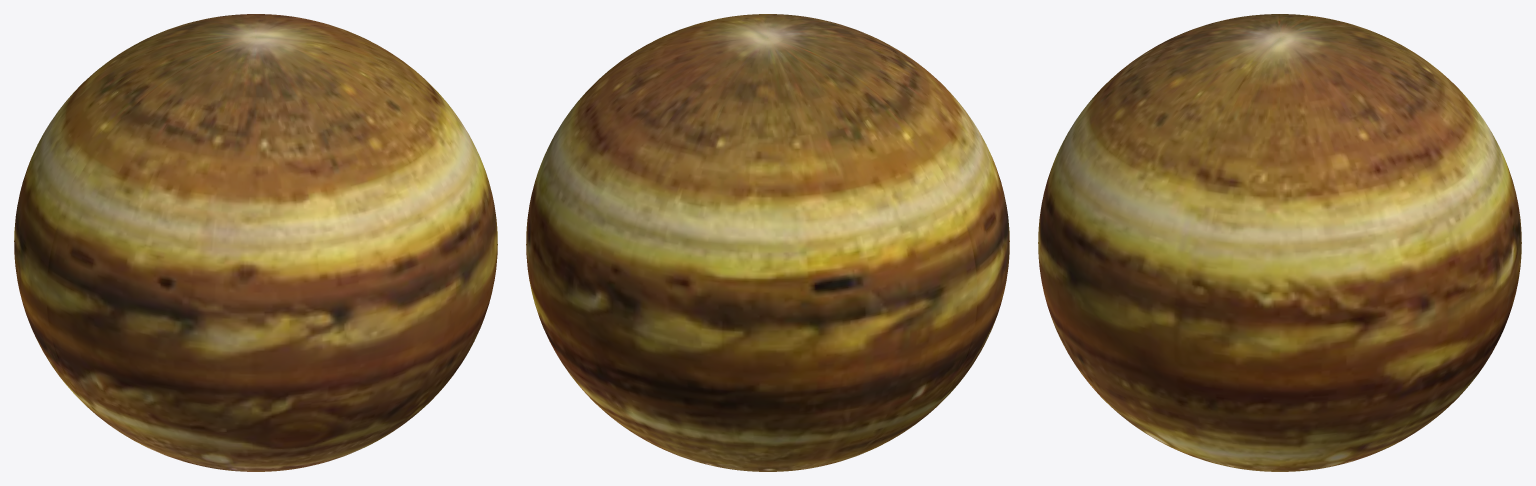
File: jupiter.glb
3 renders of one model, left to right at view 1: azimuth 30°, elevation 25°; view 2: azimuth 150°, elevation 25°; view 3: azimuth 270°, elevation 25°, orthographic.
Visible parts, largest first — view 1: jupiter; view 2: jupiter; view 3: jupiter.
Part boxes in pixels (x1=…): jupiter: x1=14, y1=14, x2=497, y2=471; jupiter: x1=526, y1=14, x2=1009, y2=471; jupiter: x1=1038, y1=14, x2=1521, y2=471.
Bounding box in the file's own units: 1.43e+08 × 1.34e+08 × 1.43e+08.
1 material, 1 textured.
